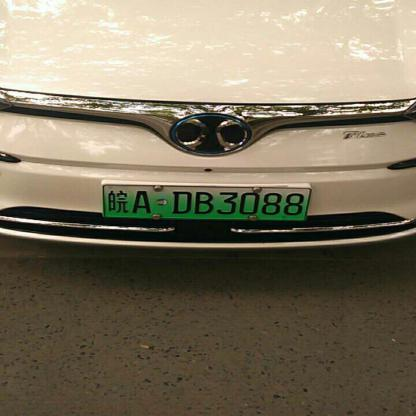lp: (104, 185, 309, 218)
